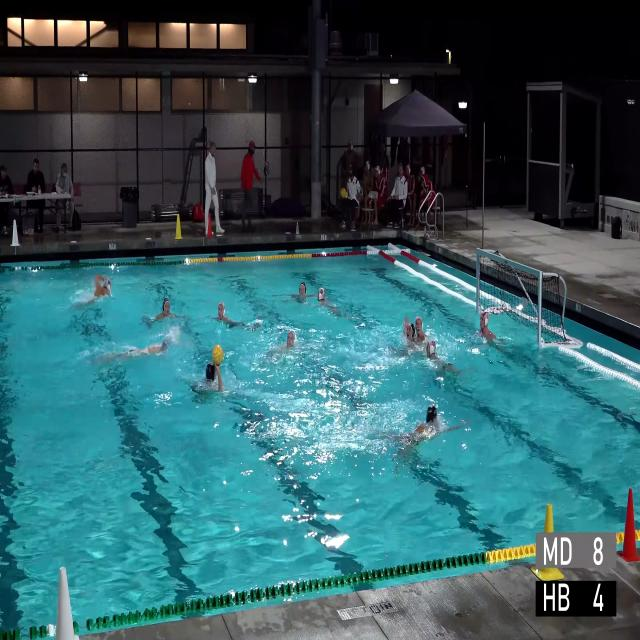ball: (212, 345, 223, 366), (341, 188, 346, 198)
